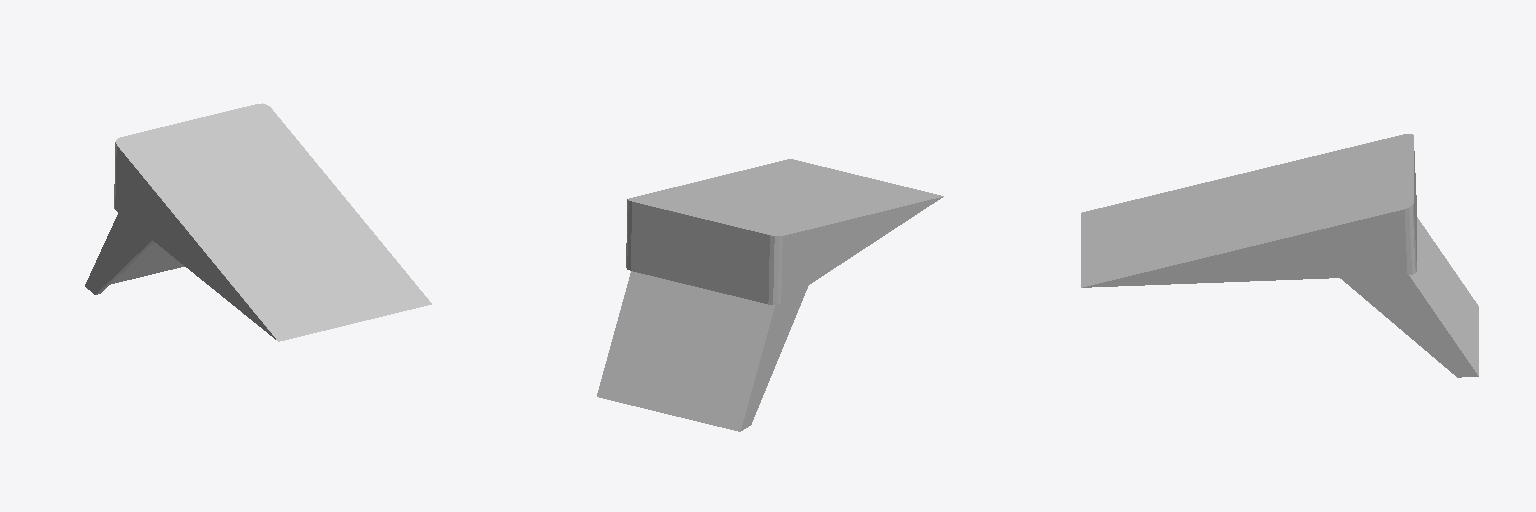
The model's file is original_2.obj.
The picture shows the model from 3 angles: view 1: azimuth 30°, elevation 25°; view 2: azimuth 150°, elevation 25°; view 3: azimuth 270°, elevation 25°; orthographic projection.
Visible parts, largest first — view 1: Group2/mesh2/mesh2-geometry#mesh2-geometry; view 2: Group2/mesh2/mesh2-geometry#mesh2-geometry; view 3: Group2/mesh2/mesh2-geometry#mesh2-geometry.
Boxes of the visible parts, x1,y1,x2,y2 form: Group2/mesh2/mesh2-geometry#mesh2-geometry: [85, 103, 431, 341]; Group2/mesh2/mesh2-geometry#mesh2-geometry: [597, 159, 943, 431]; Group2/mesh2/mesh2-geometry#mesh2-geometry: [1081, 134, 1478, 377].
Bounding box in the file's own units: 0.0362 × 0.0389 × 0.081.